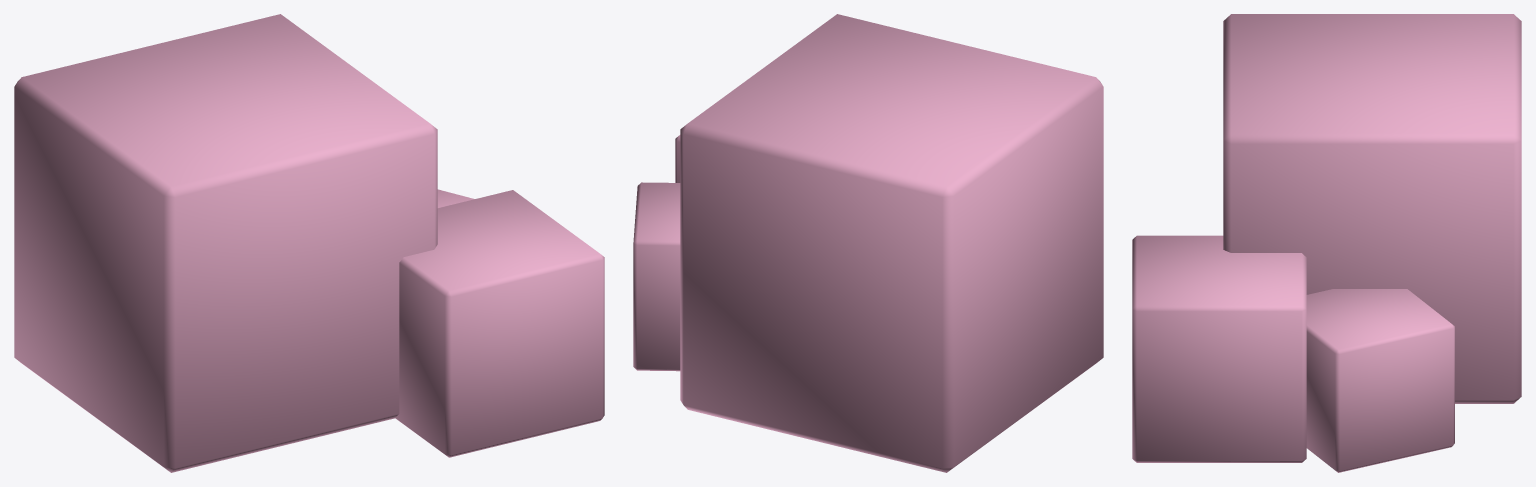
File: bush-80_col.fbx
The picture shows the model from 3 angles, left to right: view 1: azimuth 30°, elevation 25°; view 2: azimuth 150°, elevation 25°; view 3: azimuth 270°, elevation 25°; orthographic projection. The views are drawn at different scales.
Parts seen in each view (by area): view 1: bush-80.col; view 2: bush-80.col; view 3: bush-80.col.
Boxes of the visible parts, <box> form: bush-80.col: <box>14,14,604,472</box>; bush-80.col: <box>633,14,1103,472</box>; bush-80.col: <box>1132,14,1521,472</box>.
Size of the model in its own units: 0.2823 by 0.1925 by 0.2467.
Materials: 1 (1 with a texture image).
